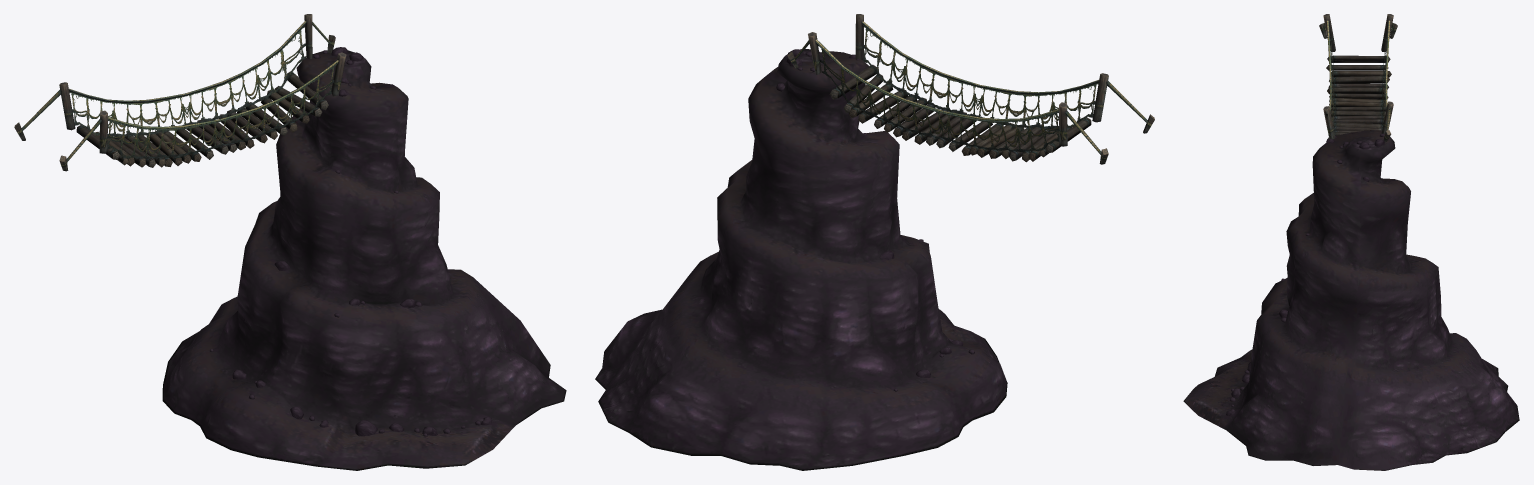
Rendered from cave_exit_01.fbx.
3 renders of one model, left to right at view 1: azimuth 30°, elevation 25°; view 2: azimuth 150°, elevation 25°; view 3: azimuth 270°, elevation 25°, orthographic. The views are drawn at different scales.
Parts seen in each view (by area): view 1: cave_exit_01-0; view 2: cave_exit_01-0; view 3: cave_exit_01-0.
Boxes of the visible parts, x1=… form: cave_exit_01-0: x1=14, y1=14, x2=566, y2=470; cave_exit_01-0: x1=595, y1=14, x2=1154, y2=470; cave_exit_01-0: x1=1183, y1=14, x2=1519, y2=470.
Bounding box in the file's own units: 23.05 × 16.05 × 16.96.
